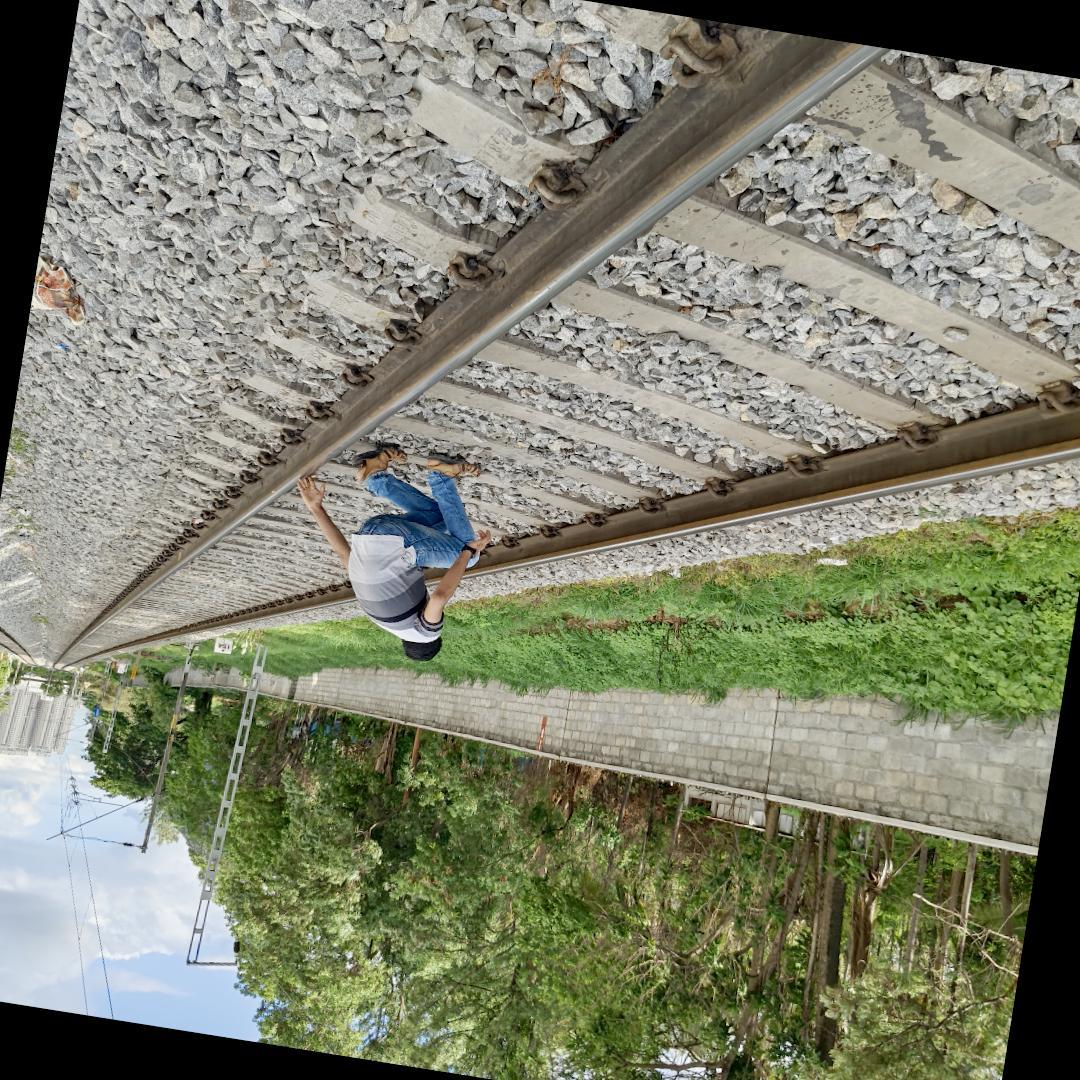sitting: (288, 438, 498, 675)
